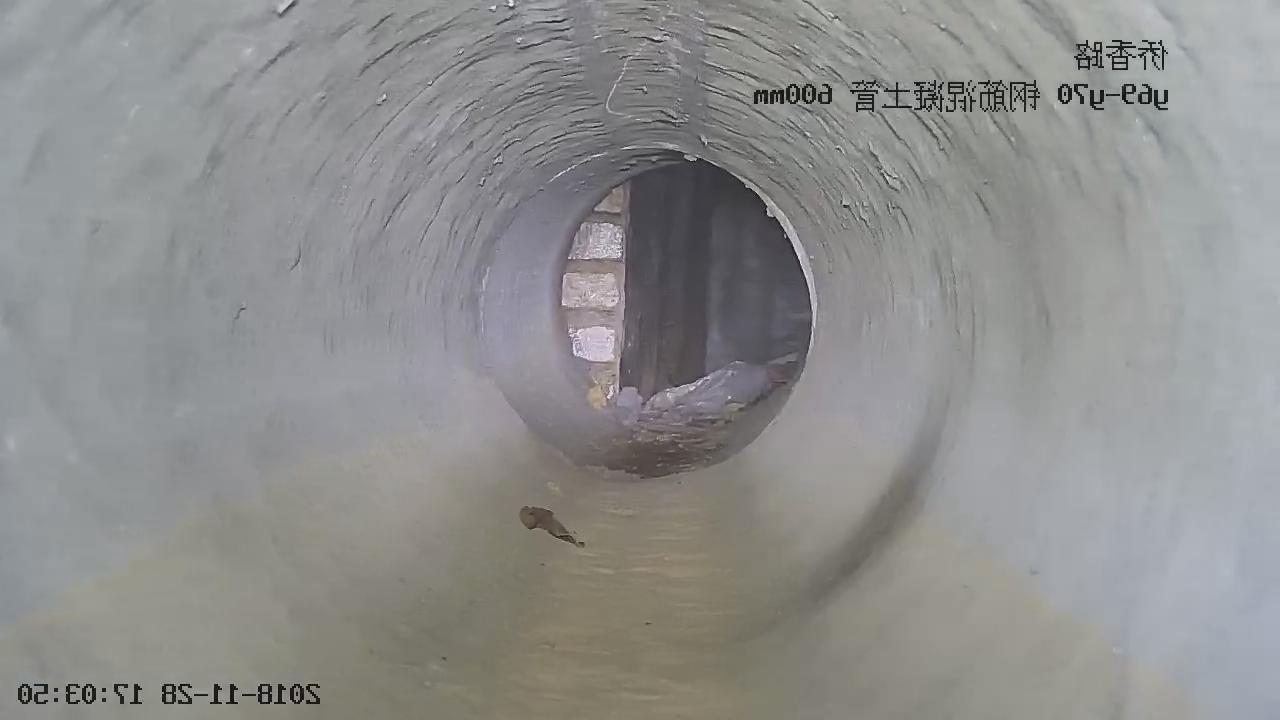CQBG: (562, 186, 627, 409)
